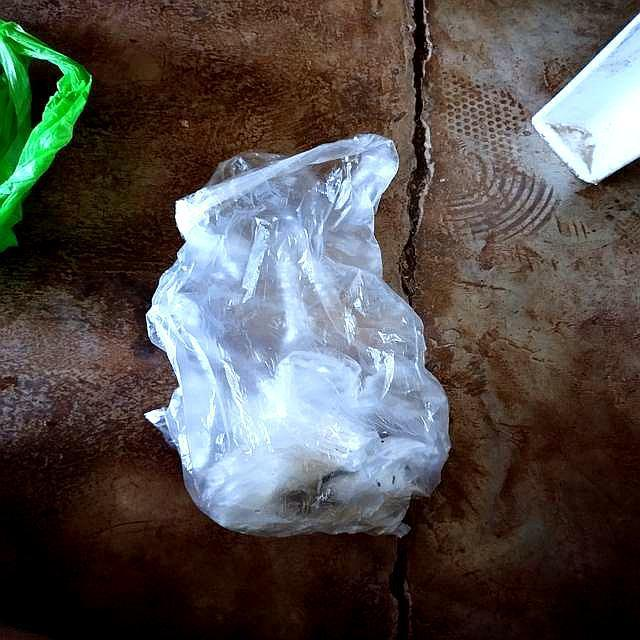Non-biodegradable: (143, 137, 457, 539), (1, 19, 95, 253)
